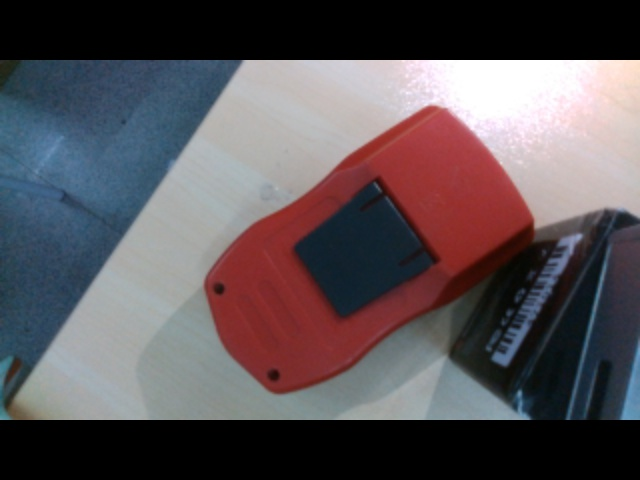Multimeter: (203, 103, 536, 398)
Screw holes: (266, 367, 281, 384), (212, 283, 227, 296)
